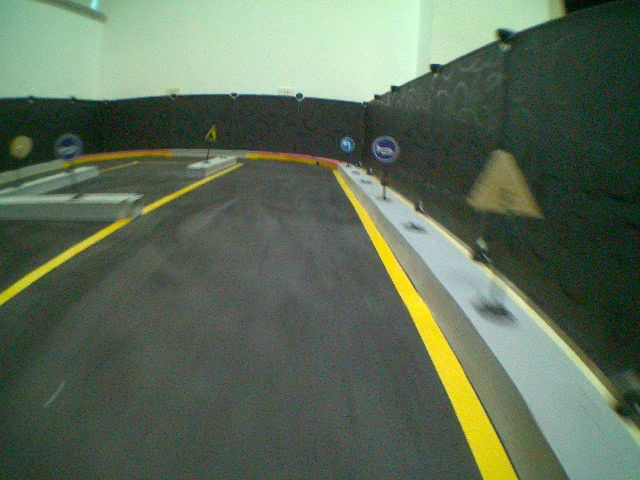fast: (204, 122, 220, 143)
horn: (53, 133, 82, 164), (371, 133, 401, 162)
turn: (340, 134, 357, 153)
